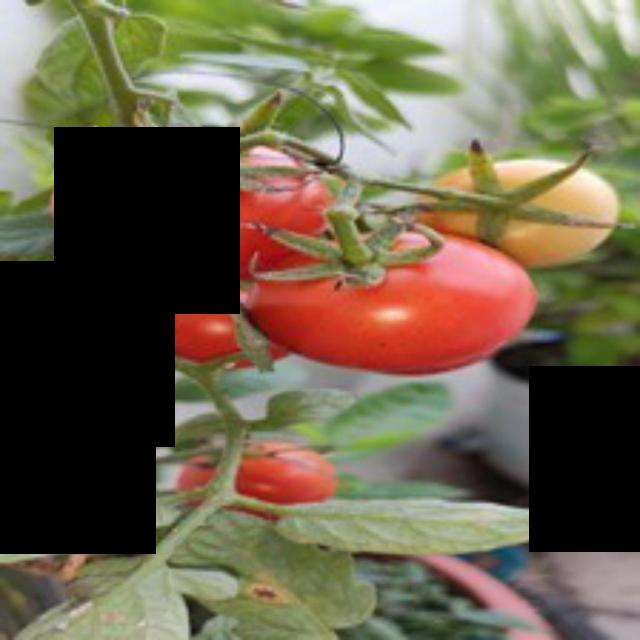tomato: (242, 205, 534, 377), (58, 118, 330, 295)
